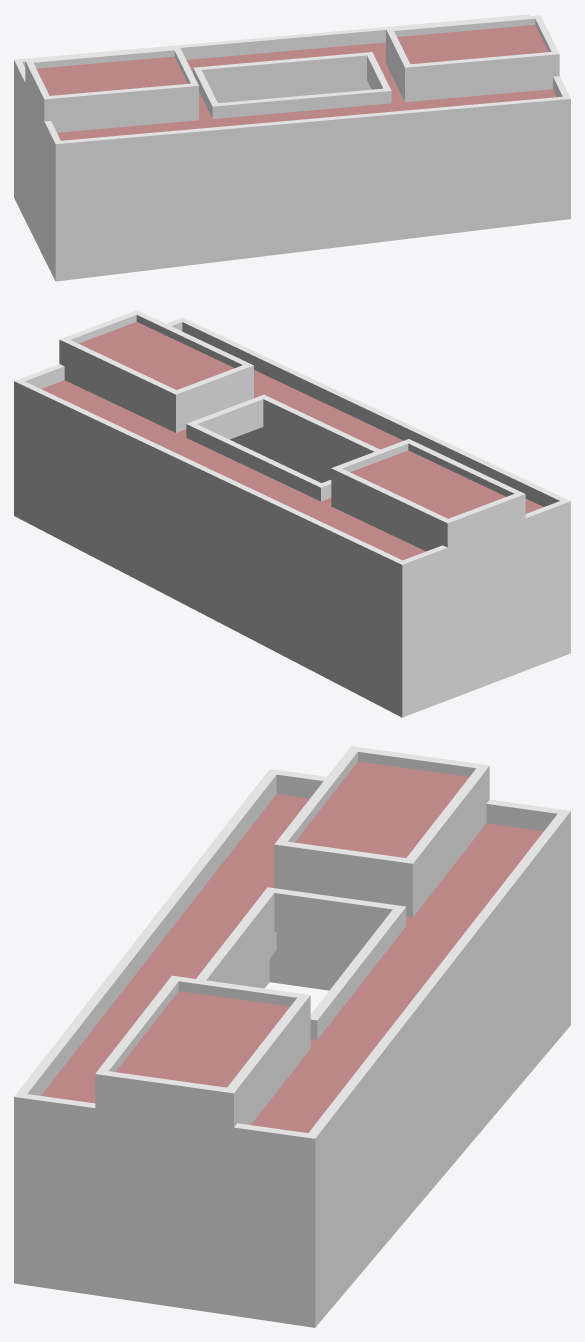
File: LOD_Block_3_3.glb
The picture shows the model from 3 angles, top to bottom: view 1: azimuth 30°, elevation 25°; view 2: azimuth 150°, elevation 25°; view 3: azimuth 270°, elevation 25°; orthographic projection. The views are drawn at different scales.
Parts seen in each view (by area): view 1: mesh_CityEngineMaterial_120; view 2: mesh_CityEngineMaterial_120; view 3: mesh_CityEngineMaterial_120.
Boxes of the visible parts, x1,y1,x2,y2 form: mesh_CityEngineMaterial_120: [14, 14, 570, 281]; mesh_CityEngineMaterial_120: [14, 310, 570, 717]; mesh_CityEngineMaterial_120: [14, 746, 570, 1327].
Bounding box in the file's own units: 40.88 × 12.8 × 26.01.
